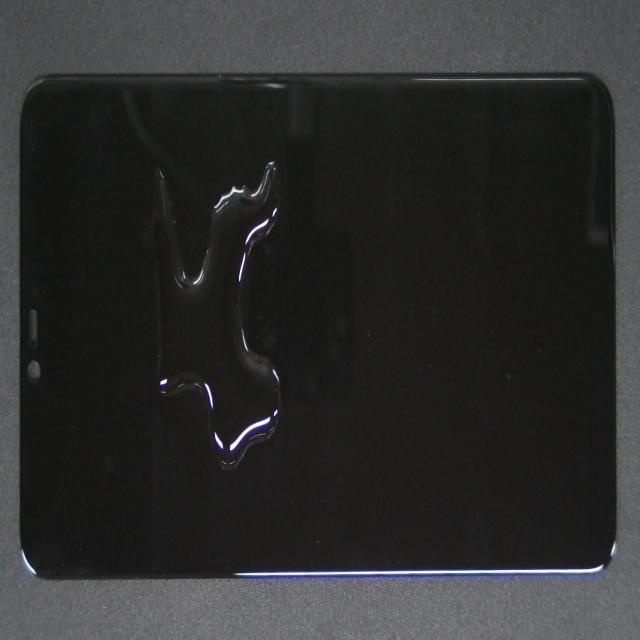oil: (87, 254, 359, 640)
